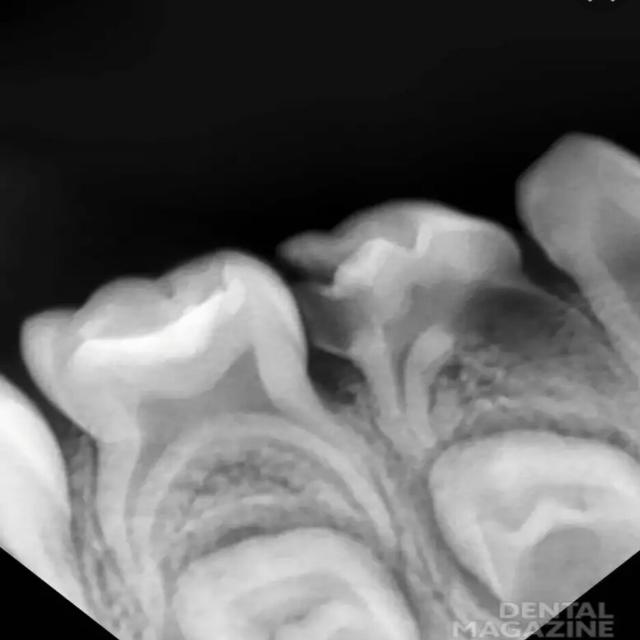Caries: (284, 194, 601, 578)
